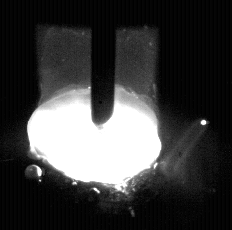arame: (93, 0, 116, 129)
poca: (26, 0, 160, 230)
